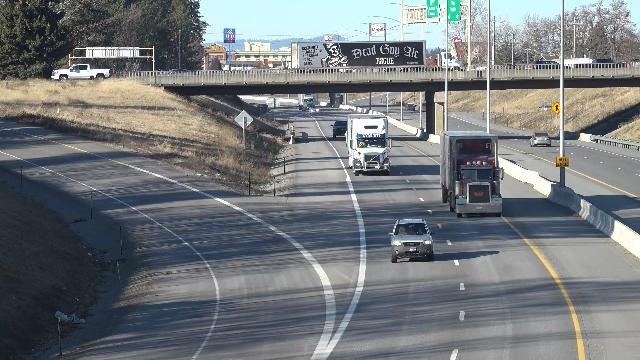car: (389, 217, 436, 263), (531, 129, 553, 148), (333, 120, 347, 137), (309, 105, 320, 114), (405, 102, 416, 111)
pickup-truck: (43, 63, 111, 83)
truck: (440, 131, 504, 217), (346, 114, 394, 174), (298, 93, 315, 111)
